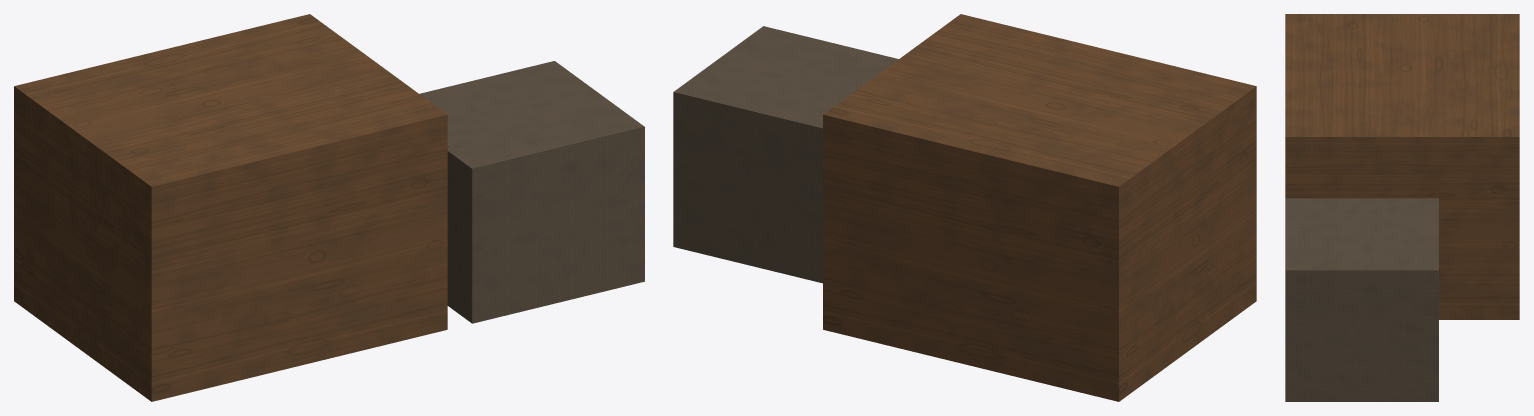
The model's file is en-018_storage_corner_set__crate.obj.
The picture shows the model from 3 angles, left to right: view 1: azimuth 30°, elevation 25°; view 2: azimuth 150°, elevation 25°; view 3: azimuth 270°, elevation 25°; orthographic projection. The views are drawn at different scales.
Visible parts, largest first — view 1: en-018_storage_corner_set__crate; view 2: en-018_storage_corner_set__crate; view 3: en-018_storage_corner_set__crate.
Part boxes in pixels (box(x1,y1,x2,y2)): en-018_storage_corner_set__crate: box(14, 14, 644, 401); en-018_storage_corner_set__crate: box(673, 14, 1256, 401); en-018_storage_corner_set__crate: box(1285, 14, 1519, 401).
Size of the model in its own units: 1.2 by 0.5 by 0.58.
Materials: 2 (2 with a texture image).
